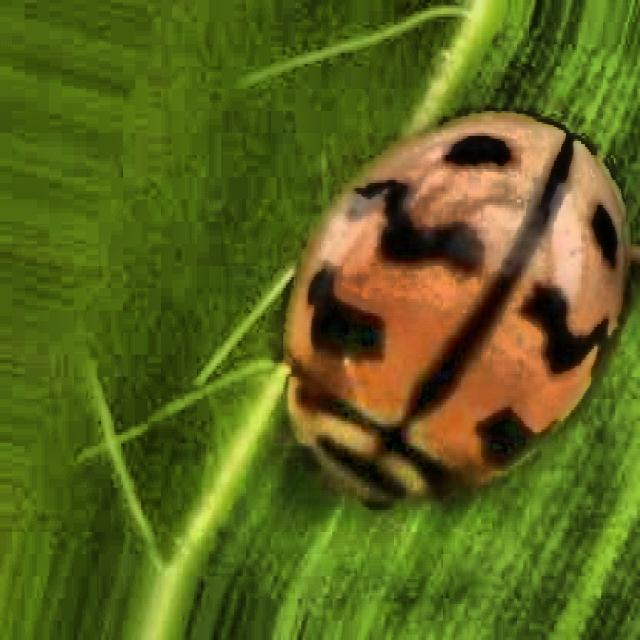Asian-Lady-beetle: (263, 55, 635, 547)
